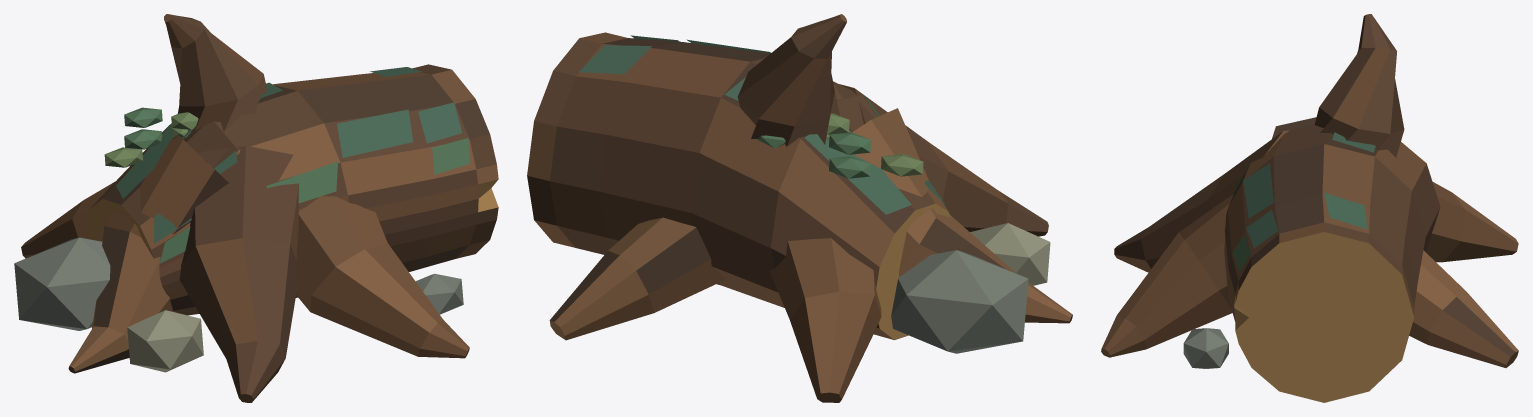
File: rootfall-left.glb
3 views of the same model, side by side, from view 1: azimuth 30°, elevation 25°; view 2: azimuth 150°, elevation 25°; view 3: azimuth 270°, elevation 25° (orthographic). The views are drawn at different scales.
Parts seen in each view (by area): view 1: rootfall-left; view 2: rootfall-left; view 3: rootfall-left.
Part boxes in pixels (x1,y1,x2,y2): rootfall-left: [14, 14, 498, 402]; rootfall-left: [527, 14, 1072, 402]; rootfall-left: [1101, 14, 1518, 402].
Bounding box in the file's own units: 5.26 × 3.47 × 4.78.
Materials: 1 (1 with a texture image).
